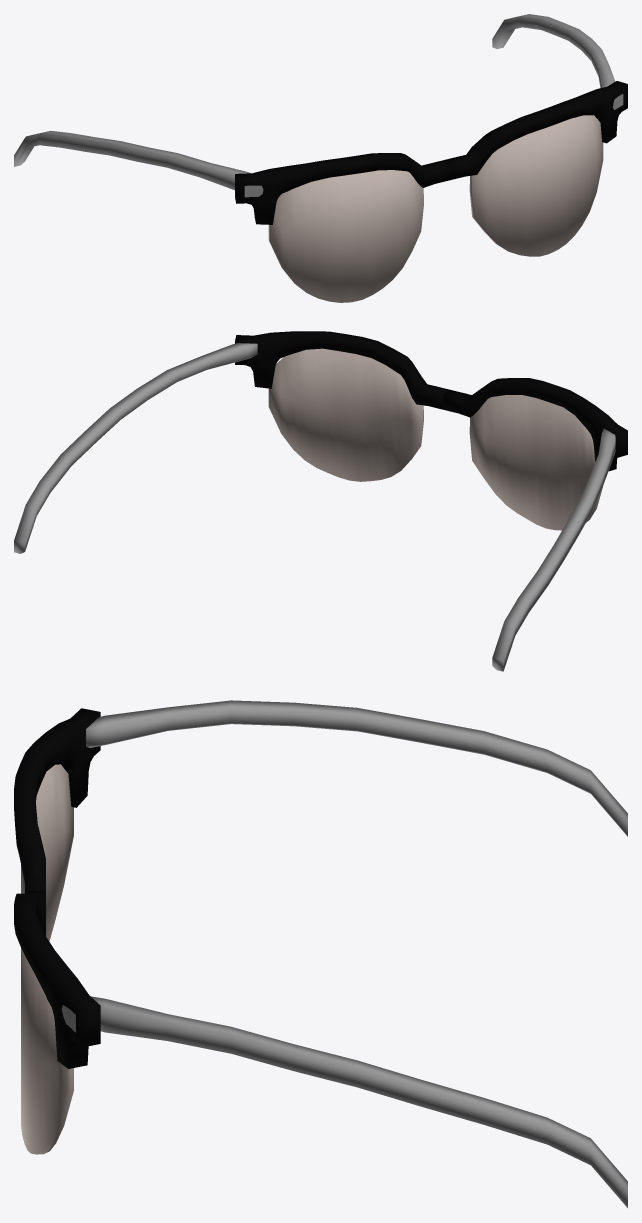
The picture shows the model from 3 angles, top to bottom: view 1: azimuth 30°, elevation 25°; view 2: azimuth 150°, elevation 25°; view 3: azimuth 270°, elevation 25°; orthographic projection. The views are drawn at different scales.
Visible parts, largest first — view 1: glassesBrowline; view 2: glassesBrowline; view 3: glassesBrowline.
Boxes of the visible parts, x1,y1,x2,y2 form: glassesBrowline: [14, 14, 627, 302]; glassesBrowline: [14, 331, 627, 671]; glassesBrowline: [14, 700, 627, 1207].
Bounding box in the file's own units: 0.4481 × 0.1243 × 0.3088.
3 materials, 2 textured.
